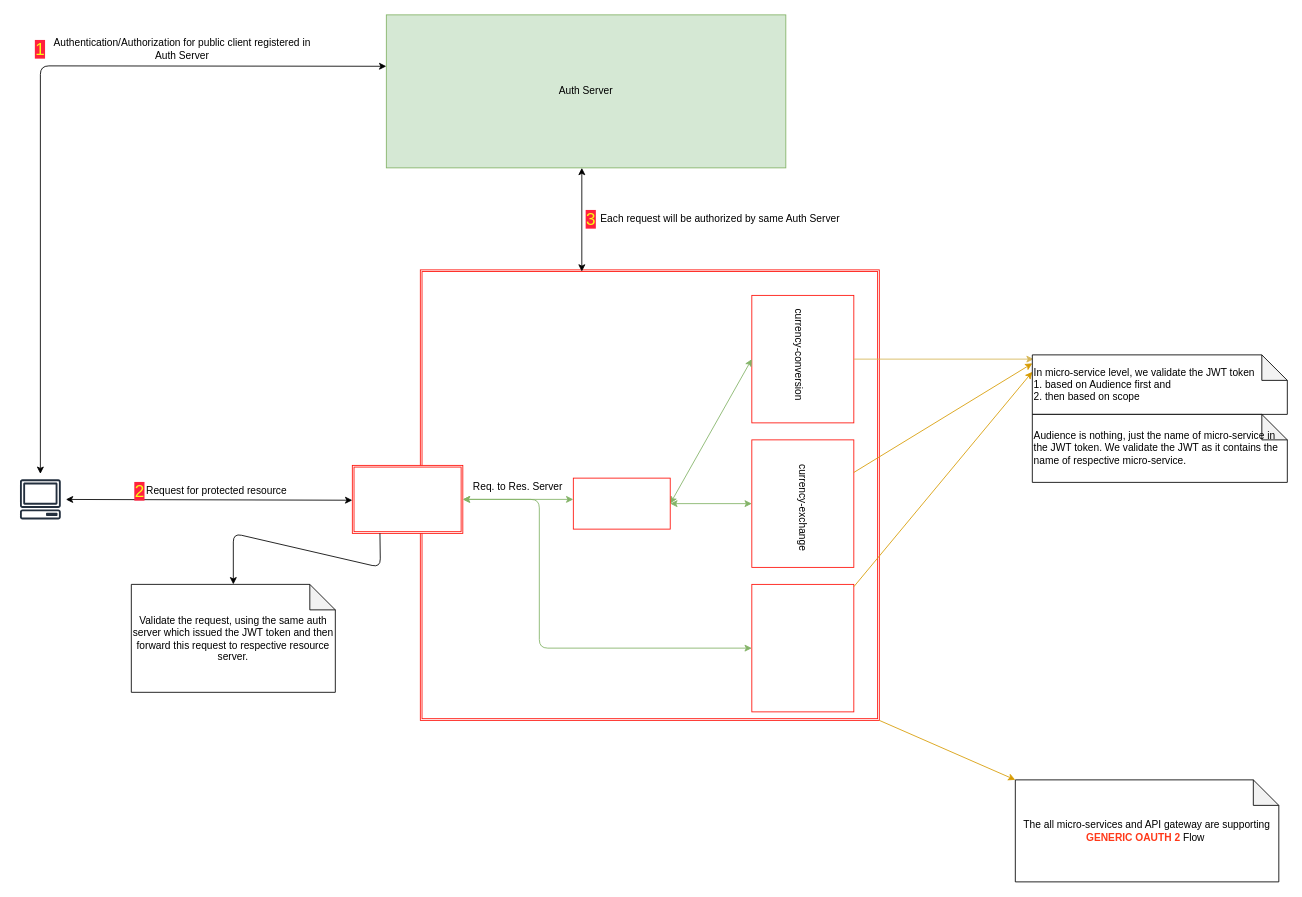
Some shapes in this 1302 by 897 pixel diagram are drawn without their labels. Here are the shapes that lost their labels. From the top down, the centre of each, then its label:
[40,499]: Client
[407,499]: API Gateway
[621,503]: API Composer
[802,648]: country
